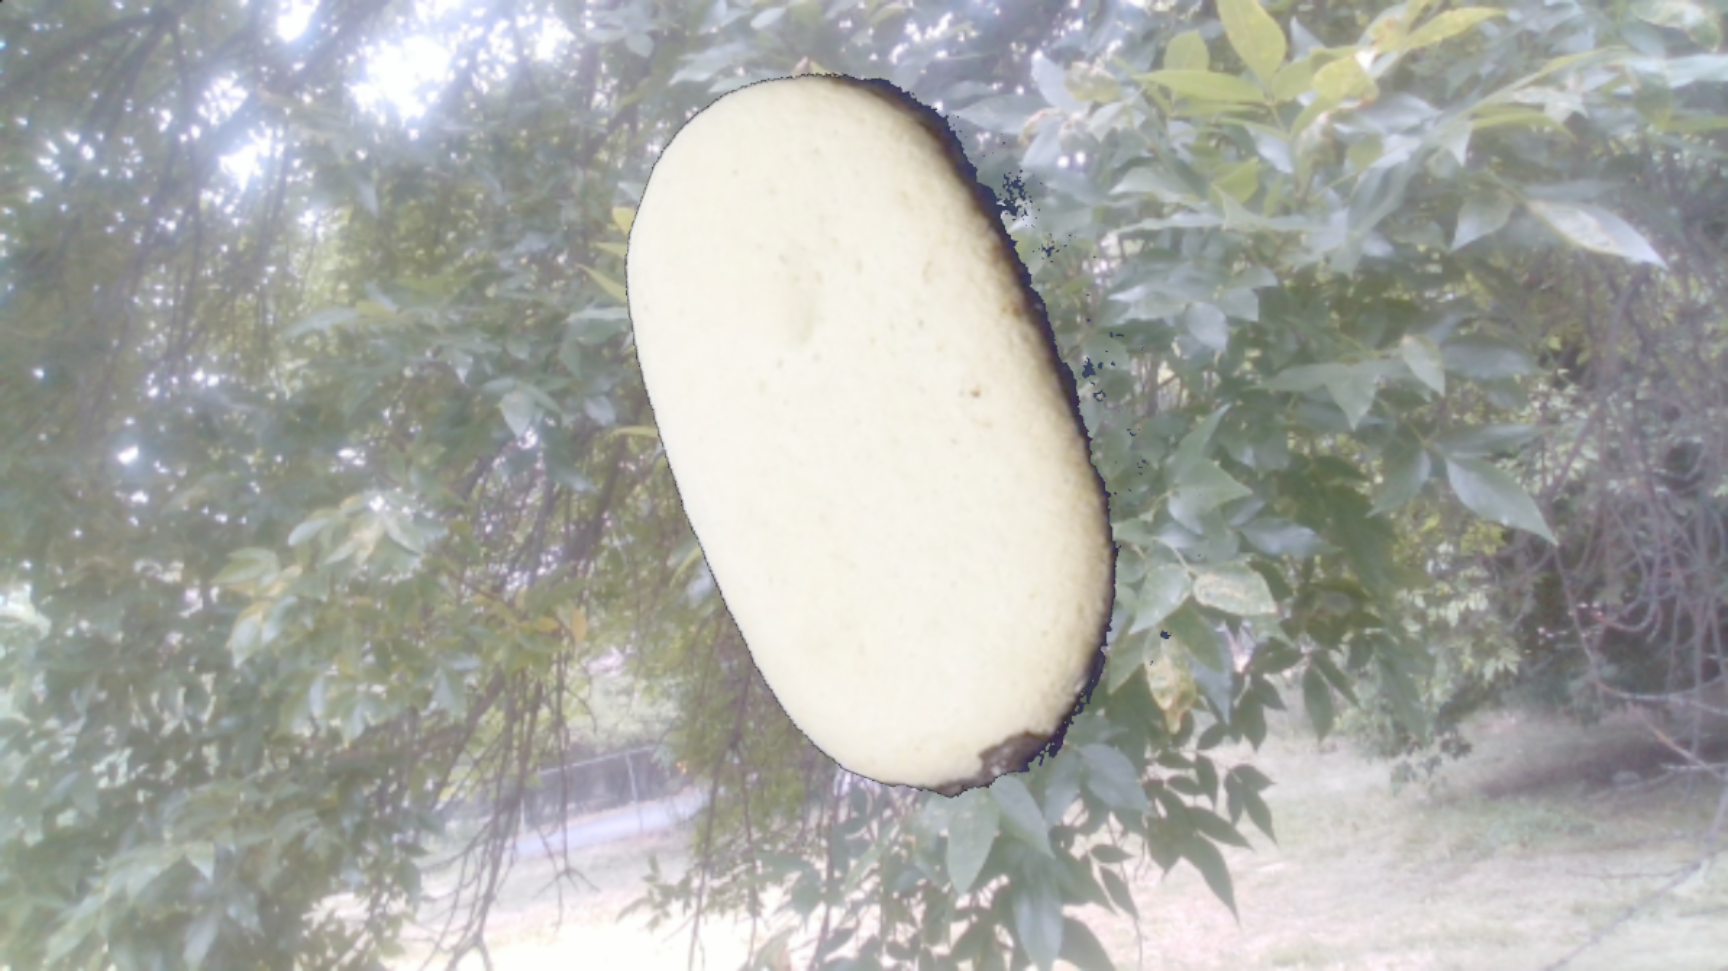test: (474, 2, 1332, 869)
